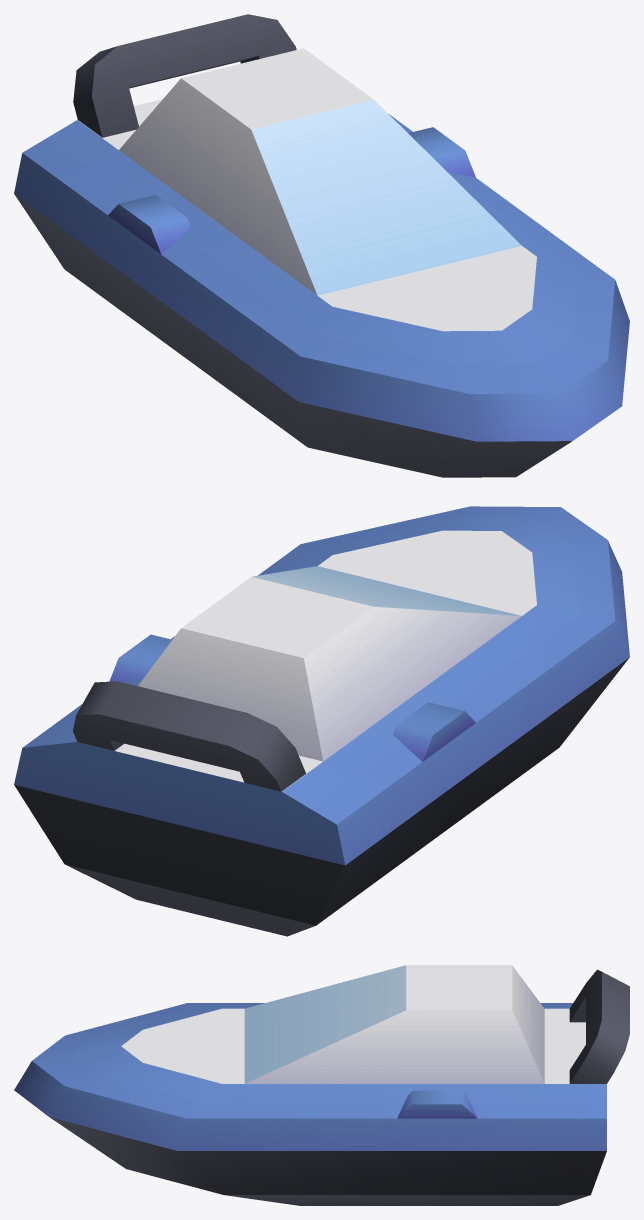
Rendered from boat-speed-g.glb.
The picture shows the model from 3 angles, top to bottom: view 1: azimuth 30°, elevation 25°; view 2: azimuth 150°, elevation 25°; view 3: azimuth 270°, elevation 25°; orthographic projection. The views are drawn at different scales.
Visible parts, largest first — view 1: boat-speed-g; view 2: boat-speed-g; view 3: boat-speed-g.
Boxes of the visible parts, x1=… form: boat-speed-g: x1=14, y1=14, x2=629, y2=477; boat-speed-g: x1=14, y1=506, x2=629, y2=936; boat-speed-g: x1=14, y1=965, x2=629, y2=1205.
Size of the model in its own units: 1.78 by 1.3 by 3.81.
Materials: 1 (1 with a texture image).
